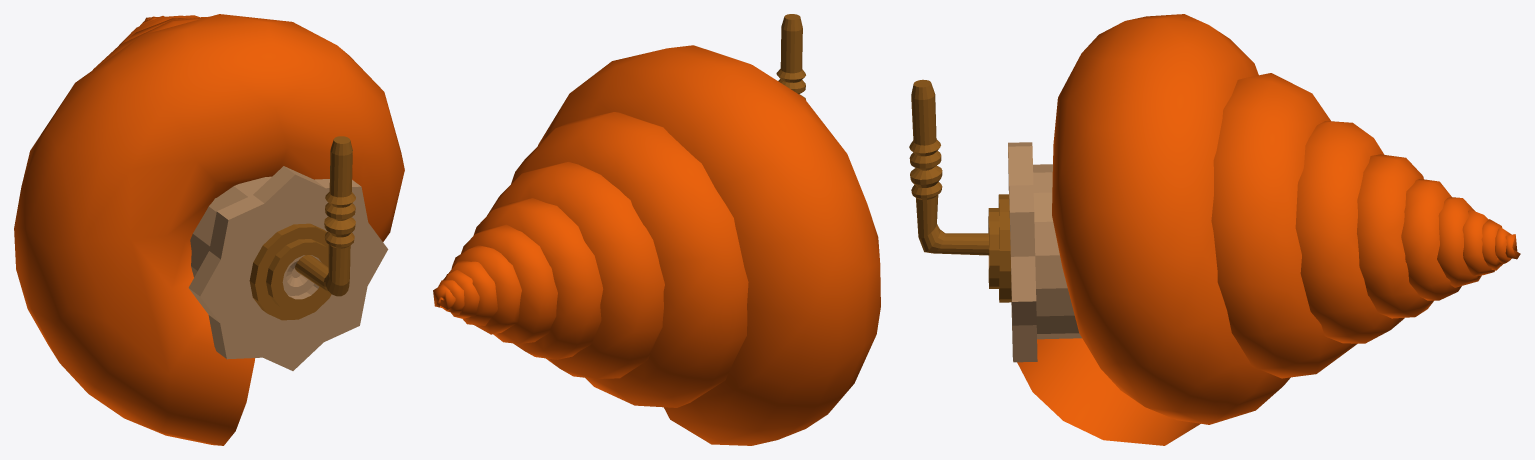
Rendered from manivela off animation.fbx.
3 renders of one model, left to right at view 1: azimuth 30°, elevation 25°; view 2: azimuth 150°, elevation 25°; view 3: azimuth 270°, elevation 25°, orthographic. The views are drawn at different scales.
Visible parts, largest first — view 1: búzio, roda, manípulo; view 2: búzio, manípulo; view 3: búzio, roda, manípulo.
Boxes of the visible parts, x1,y1,x2,y2 form: búzio: [14, 14, 404, 445]; roda: [188, 166, 388, 370]; manípulo: [295, 136, 355, 296]; búzio: [433, 45, 880, 445]; manípulo: [776, 14, 805, 99]; búzio: [1017, 14, 1520, 445]; roda: [988, 142, 1081, 362]; manípulo: [909, 79, 989, 255].
Size of the model in its own units: 200 by 213 by 280.
